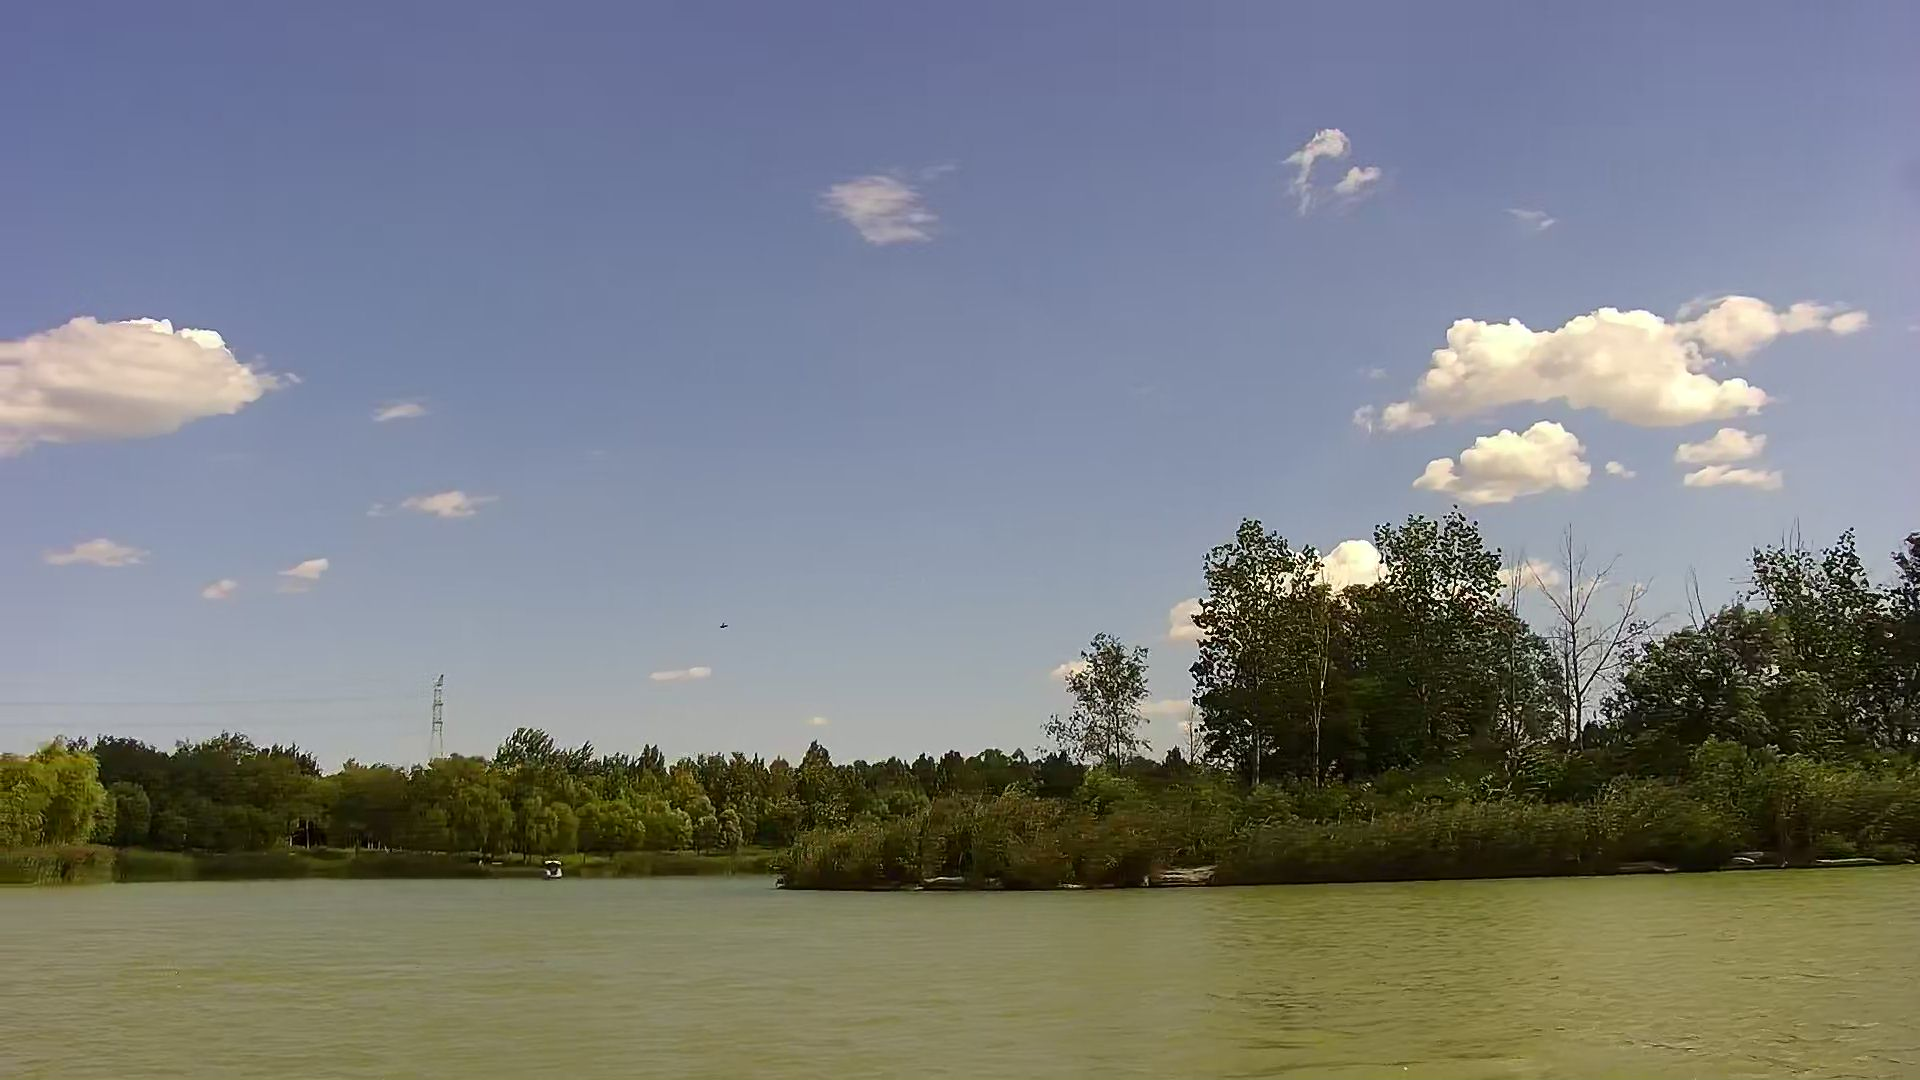rock: (1143, 866, 1220, 887), (913, 874, 985, 891)
